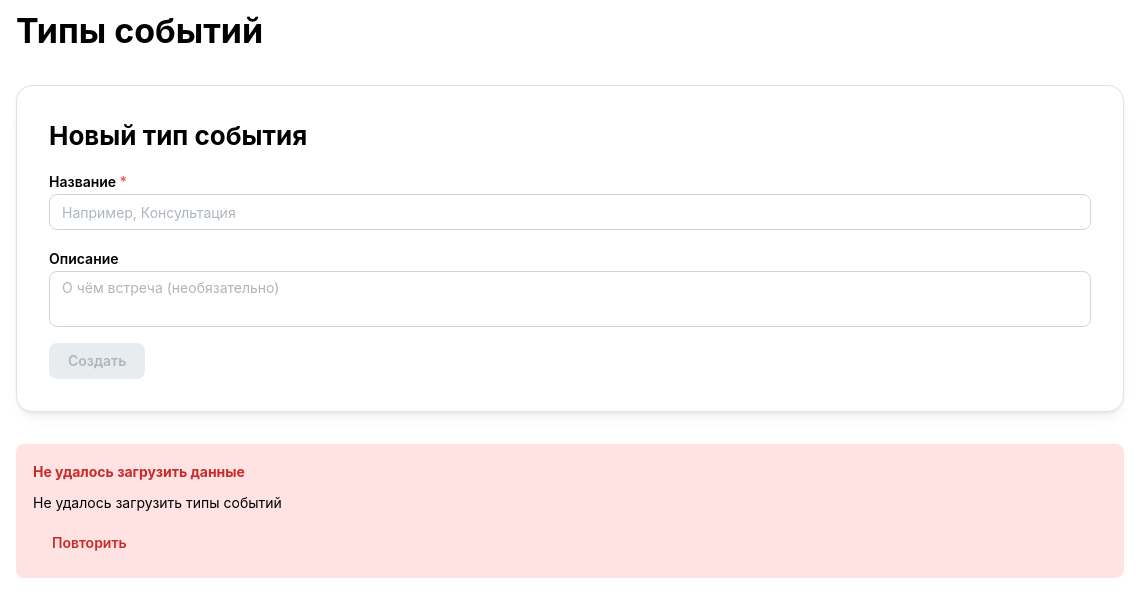
EventTypesPage › при сбое загрузки показывает сообщение и «Повторить», затем повторяет запрос
Expected: the text "Не удалось загрузить типы событий" is shown, [33, 493, 282, 513]
Click the button "Повторить": (89,543) [33, 525, 146, 561]
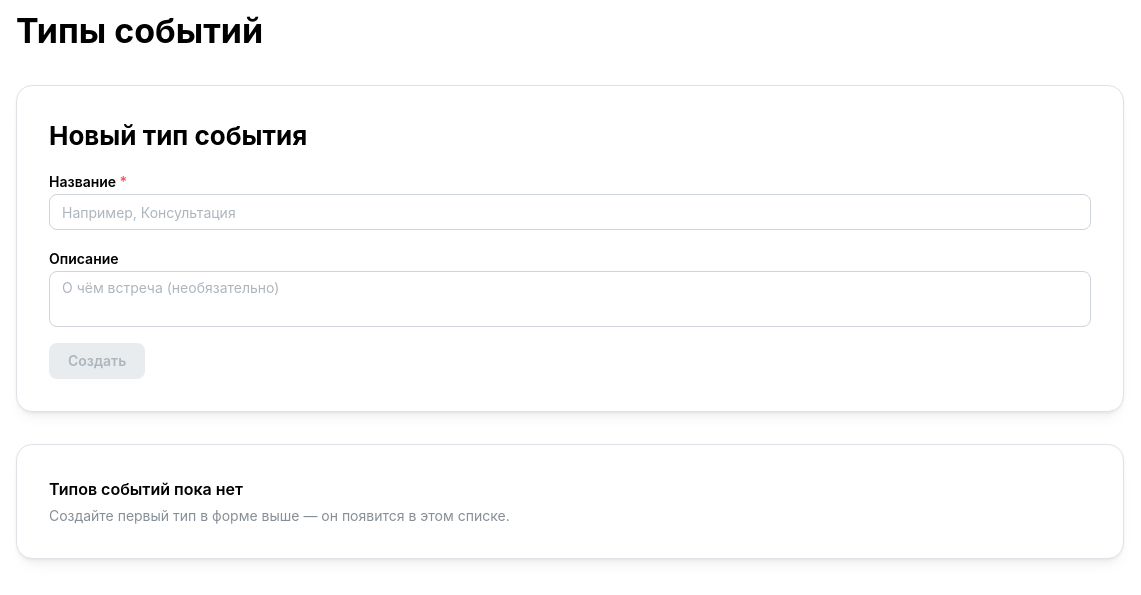
Result: the text "Типов событий пока нет" is shown at [49, 479, 243, 499]
